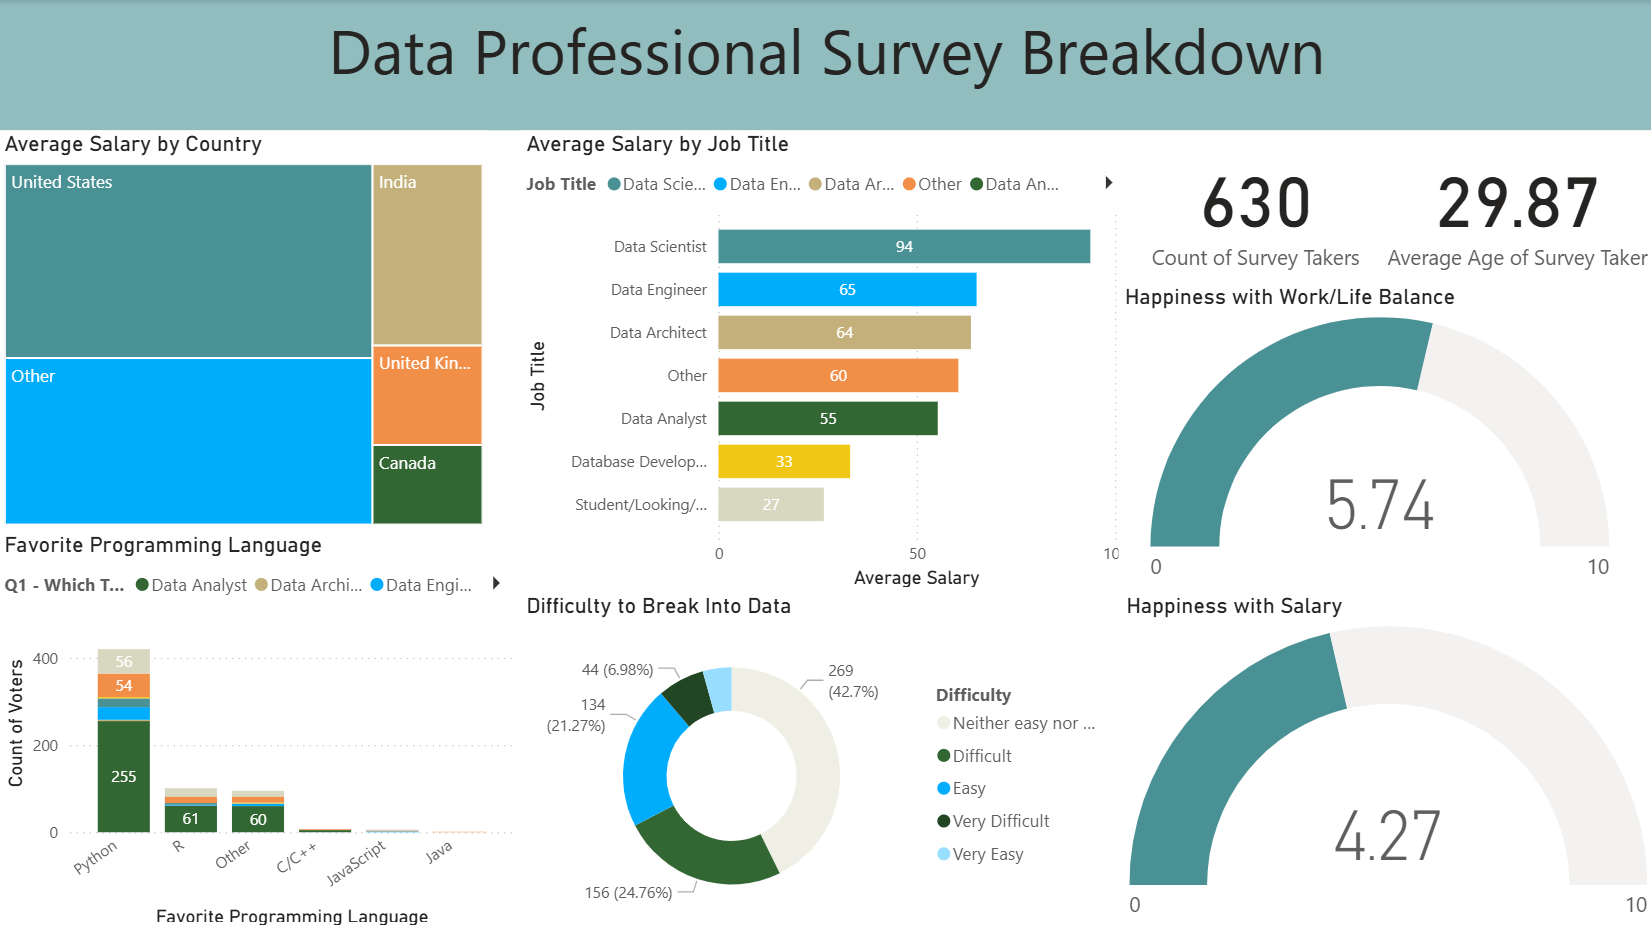

The page's visual inventory and layout, read from the dashboard file:
{"tool":"powerbi","page":{"name":"Page 1","canvas":[1280,720],"ordinal":0},"visuals":[{"type":"textbox","box":[0,0,1280.4,100.8],"z":0},{"type":"card","fields":{"Values":["CountNonNull(Data Professional Survey.Unique ID)"]},"box":[877.4,100.8,188.1,118.2],"z":1},{"type":"card","fields":{"Values":["Avg(Data Professional Survey.Q10 - Current Age)"]},"box":[1065.5,100.8,215,118.2],"z":2},{"type":"barChart","title":"Average Salary by Job Title","fields":{"Category":["Data Professional Survey.Q1 - Which Title Best Fits your Current Role?.1"],"Y":["Avg(Data Professional Survey.Average Salary)"],"Series":["Data Professional Survey.Q1 - Which Title Best Fits your Current Role?.1"]},"box":[403.1,100.8,474.3,357.4],"z":3},{"type":"columnChart","title":"Favorite Programming Language","fields":{"Category":["Data Professional Survey.Q5 - Favorite Programming Language.1"],"Y":["CountNonNull(Data Professional Survey.Unique ID)"],"Series":["Data Professional Survey.Q1 - Which Title Best Fits your Current Role?.1"]},"box":[0,409.8,403.1,310.4],"z":4},{"type":"treemap","fields":{"Values":["CountNonNull(Data Professional Survey.Q11 - Which Country do you live in?.1)"],"Group":["Data Professional Survey.Q11 - Which Country do you live in?.1"]},"box":[0,100.8,378.9,309],"z":5},{"type":"gauge","title":"Happiness with Work/Life Balance","fields":{"Y":["Avg(Data Professional Survey.Q6 - How Happy are you in your Current Position with the following? (Work/Life Balance))"],"MinValue":["Min(Data Professional Survey.Q6 - How Happy are you in your Current Position with the following? (Work/Life Balance))1"],"MaxValue":["Max(Data Professional Survey.Q6 - How Happy are you in your Current Position with the following? (Work/Life Balance))2"]},"box":[865.3,219,403.1,239.2],"z":6},{"type":"gauge","title":"Happiness with Salary","fields":{"Y":["Avg(Data Professional Survey.Q6 - How Happy are you in your Current Position with the following? (Salary))"],"MinValue":["Min(Data Professional Survey.Q6 - How Happy are you in your Current Position with the following? (Salary))"],"MaxValue":["Max(Data Professional Survey.Q6 - How Happy are you in your Current Position with the following? (Salary))"]},"box":[866.6,458.2,413.8,262],"z":7},{"type":"donutChart","title":"Difficulty to Break Into Data","fields":{"Category":["Data Professional Survey.Q7 - How difficult was it for you to break into Data?"],"Y":["CountNonNull(Data Professional Survey.Q7 - How difficult was it for you to break into Data?)"]},"box":[403.1,458.2,462.2,262],"z":8}]}

Visuals, with their boxes in screenshot pixels (x1, y1, x2, y2), scaled from the page's 1280x720 canvas onto the 1651x925 screenshot:
textbox: 0/0/1650/130
card - CountNonNull(Data Professional Survey.Unique ID): 1132/130/1374/281
card - Avg(Data Professional Survey.Q10 - Current Age): 1374/130/1650/281
"Average Salary by Job Title" barChart: 520/130/1132/589
"Favorite Programming Language" columnChart: 0/526/520/924
treemap - CountNonNull(Data Professional Survey.Q11 - Which Country do you live in?.1) x Data Professional Survey.Q11 - Which Country do you live in?.1: 0/130/489/526
"Happiness with Work/Life Balance" gauge: 1116/281/1636/589
"Happiness with Salary" gauge: 1118/589/1650/924
"Difficulty to Break Into Data" donutChart: 520/589/1116/924
